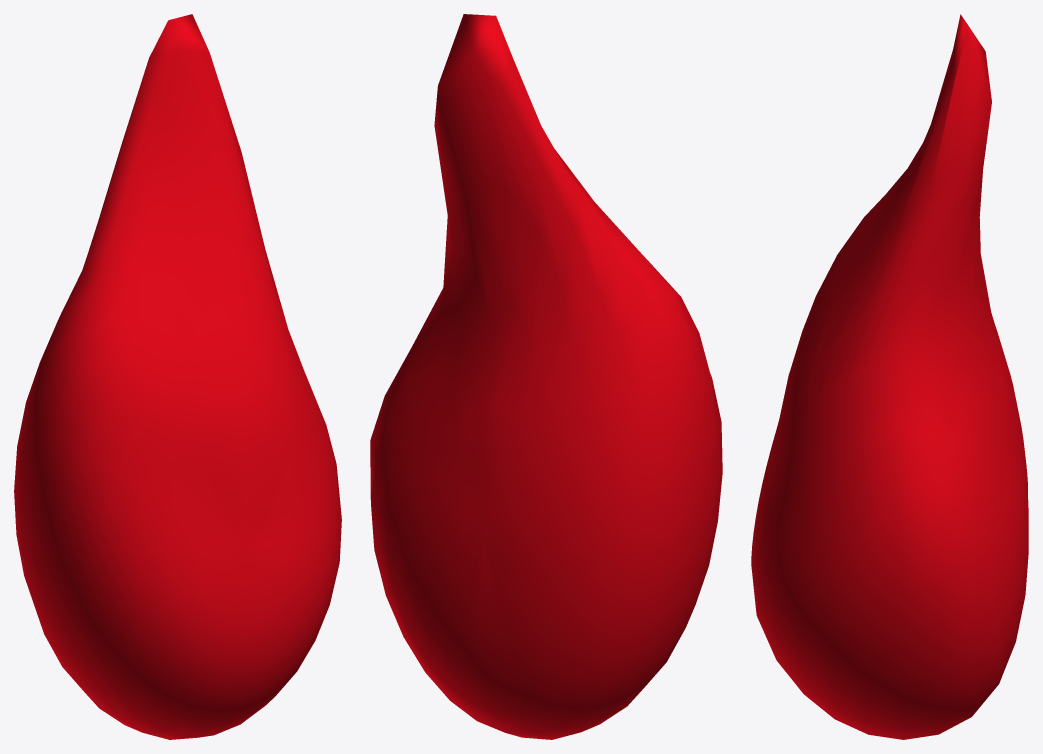
File: gobbler.fbx
3 views of the same model, side by side, from view 1: azimuth 30°, elevation 25°; view 2: azimuth 150°, elevation 25°; view 3: azimuth 270°, elevation 25° (orthographic). The views are drawn at different scales.
Parts seen in each view (by area): view 1: Sphere; view 2: Sphere; view 3: Sphere.
Part boxes in pixels (x1,y1,x2,y2): Sphere: [14, 14, 341, 739]; Sphere: [370, 14, 722, 739]; Sphere: [751, 14, 1028, 739].
Bounding box in the file's own units: 199 × 444 × 154.
